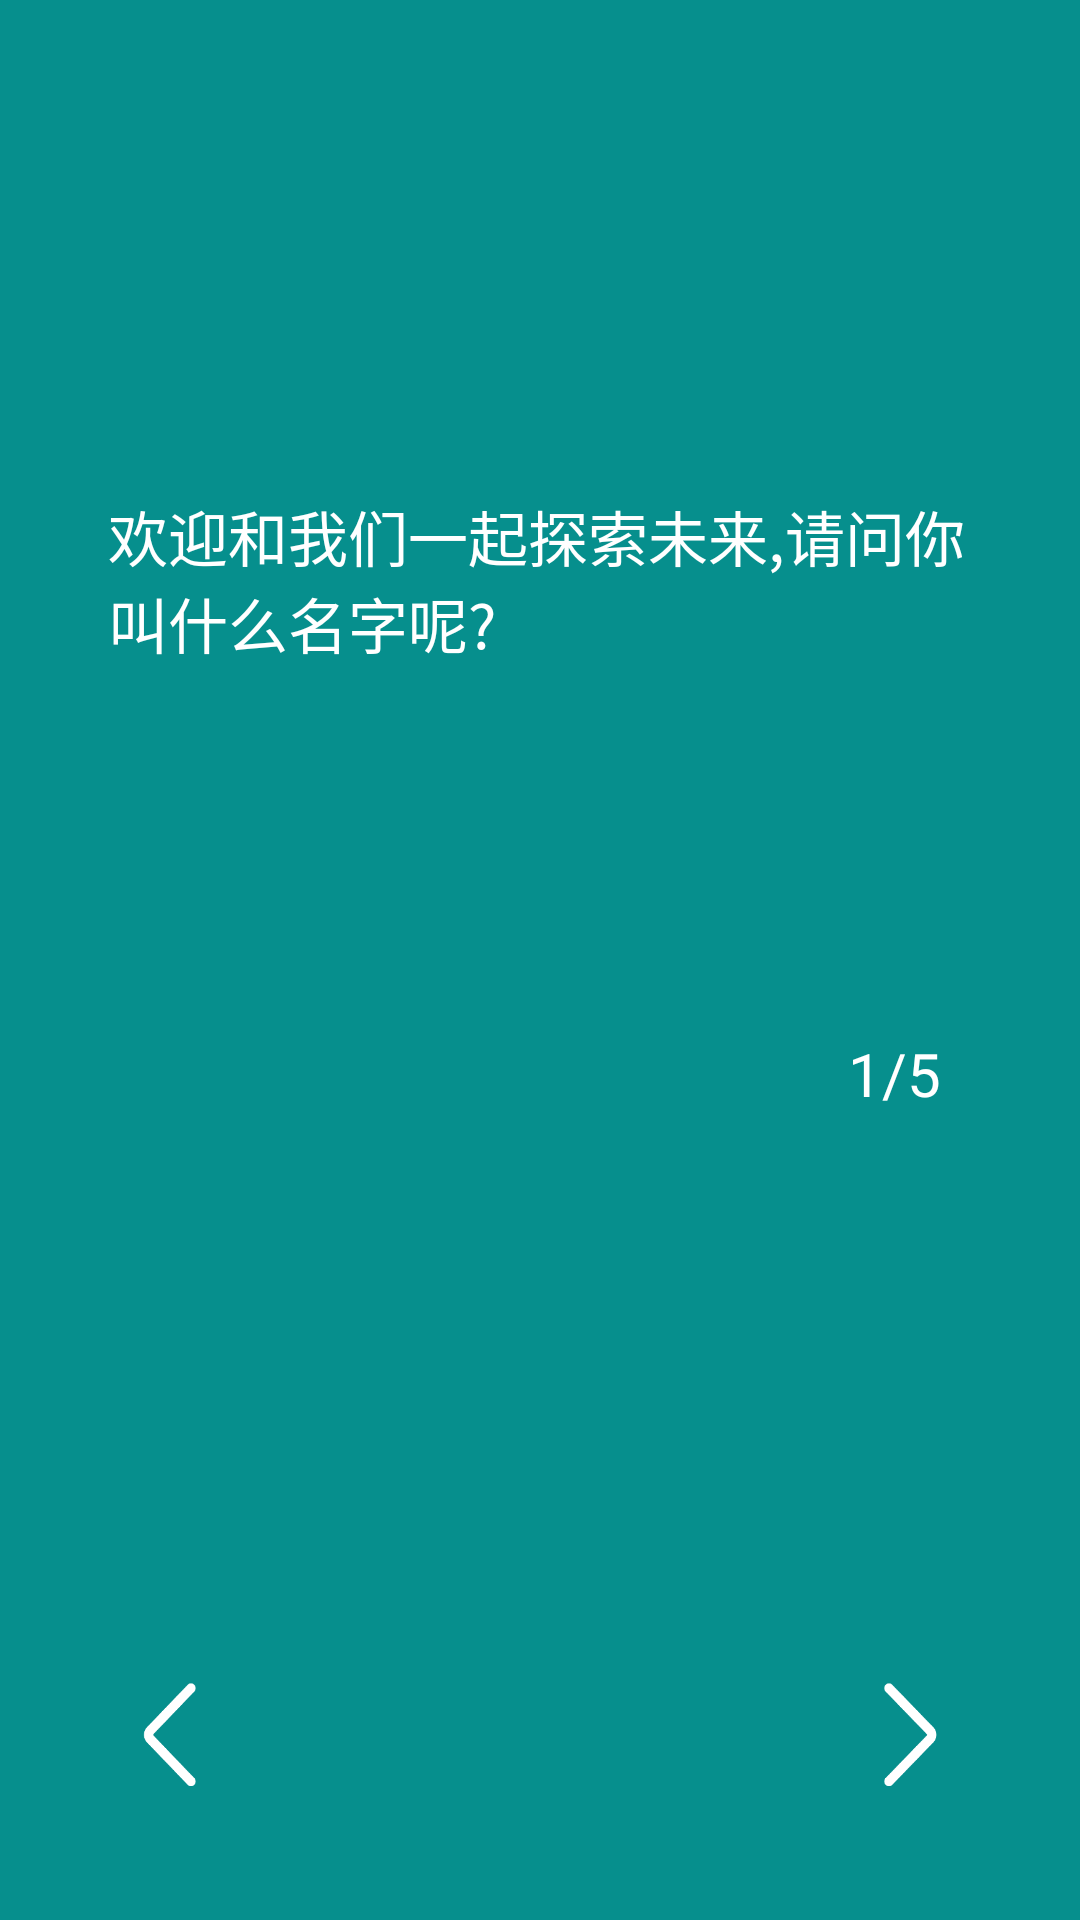

Where to tap for icons on this 1080 × 1920 app screen, as (x=x, y=y):
question press left: (x=170, y=1734)
question press right: (x=910, y=1734)
